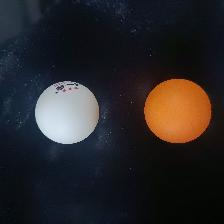WhiteBall: (35, 81, 99, 143)
YellowBall: (144, 78, 211, 143)
